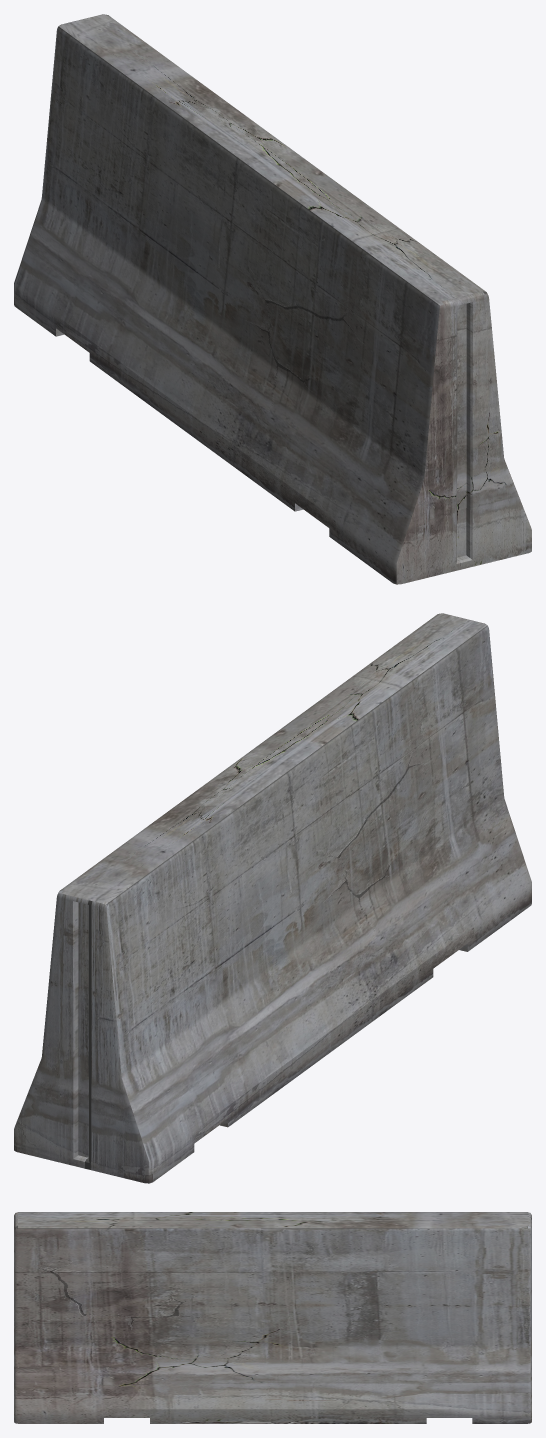
Rendered from City_Barricade001.fbx.
The picture shows the model from 3 angles, top to bottom: view 1: azimuth 30°, elevation 25°; view 2: azimuth 150°, elevation 25°; view 3: azimuth 270°, elevation 25°; orthographic projection. The views are drawn at different scales.
Parts seen in each view (by area): view 1: City_Barricade_001:Barricade_001; view 2: City_Barricade_001:Barricade_001; view 3: City_Barricade_001:Barricade_001.
Part boxes in pixels (box(x1,y1,x2,y2)): City_Barricade_001:Barricade_001: box(14, 14, 531, 584); City_Barricade_001:Barricade_001: box(14, 613, 531, 1183); City_Barricade_001:Barricade_001: box(14, 1212, 531, 1423).
Bounding box in the file's own units: 61.92 × 115 × 298.
Materials: 1 (1 with a texture image).
